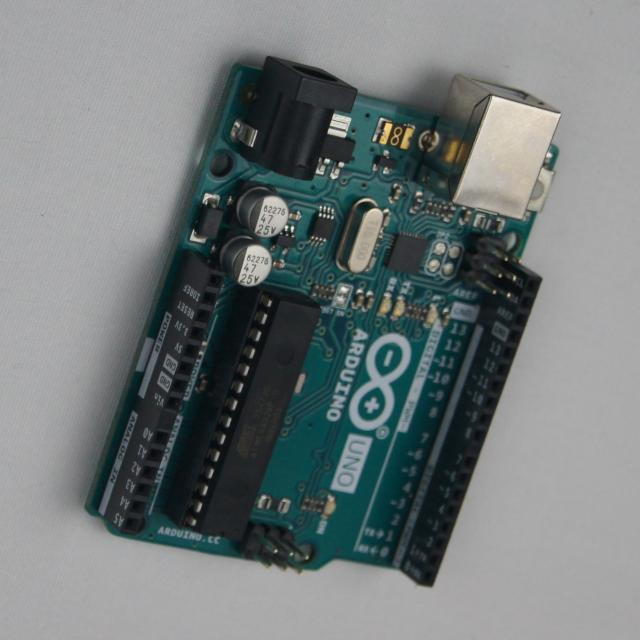Arduino Uno -Green-: (91, 58, 561, 586)
